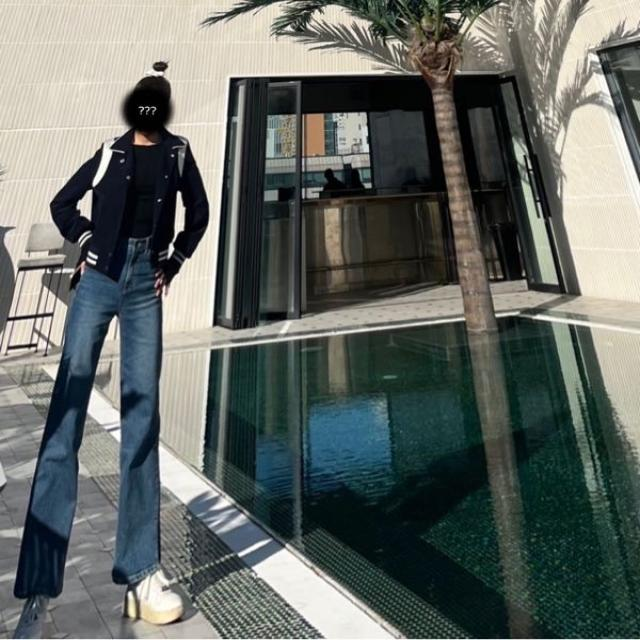denimpants: (16, 233, 167, 599)
jacket: (46, 130, 210, 282)
